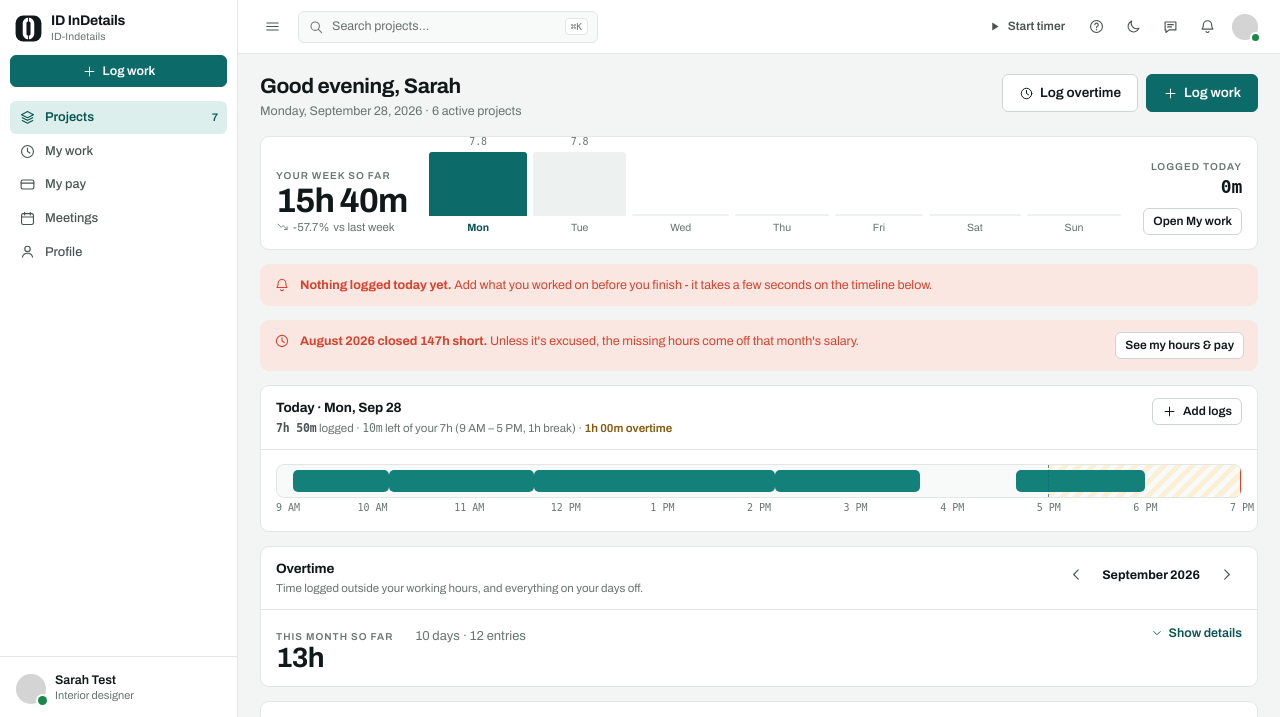
Test: logging work › says what is wrong next to the button, not in a toast
This screenshot has width=1280, height=717.
Click the button "Log work" below "ID-Indetails" at (118, 71), box [10,55,227,87]
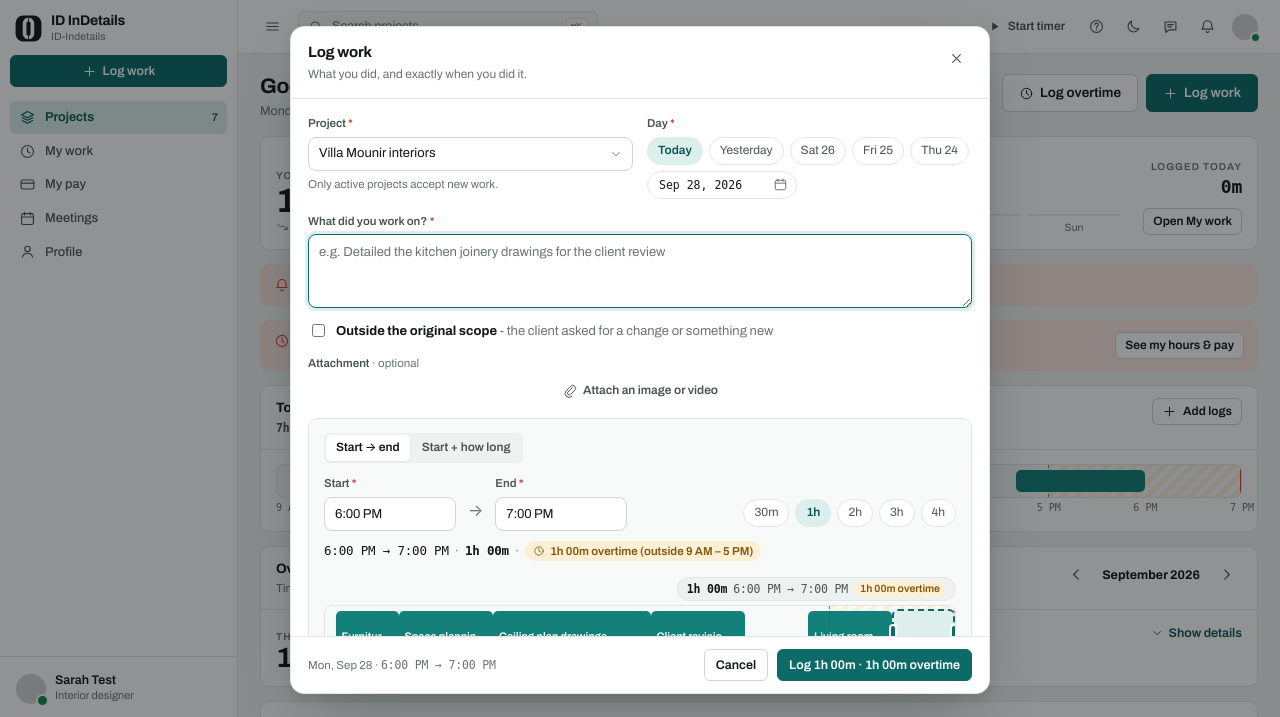
Type "Late drawings" into the text box labelled "What did you work on?" at (640, 272), box [308,234,972,308]
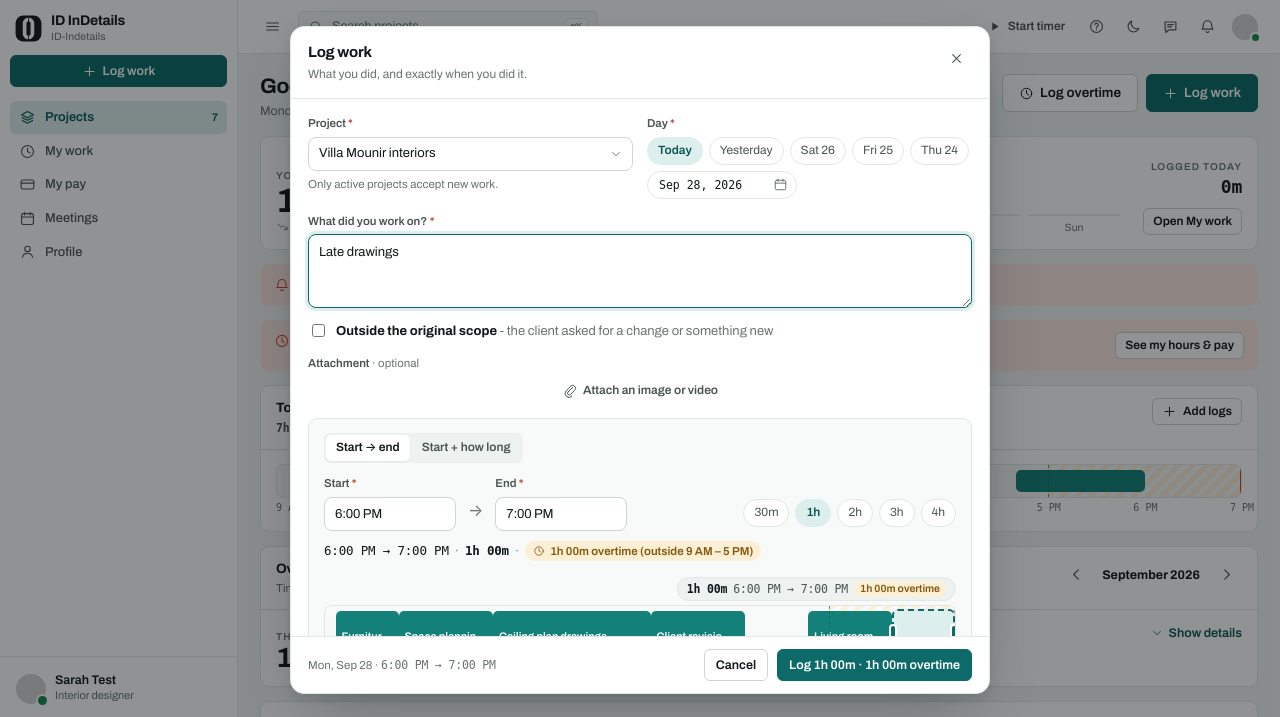
Click the button "Log 1h 00m · 1h 00m overtime" at (875, 665), box [777,649,972,681]
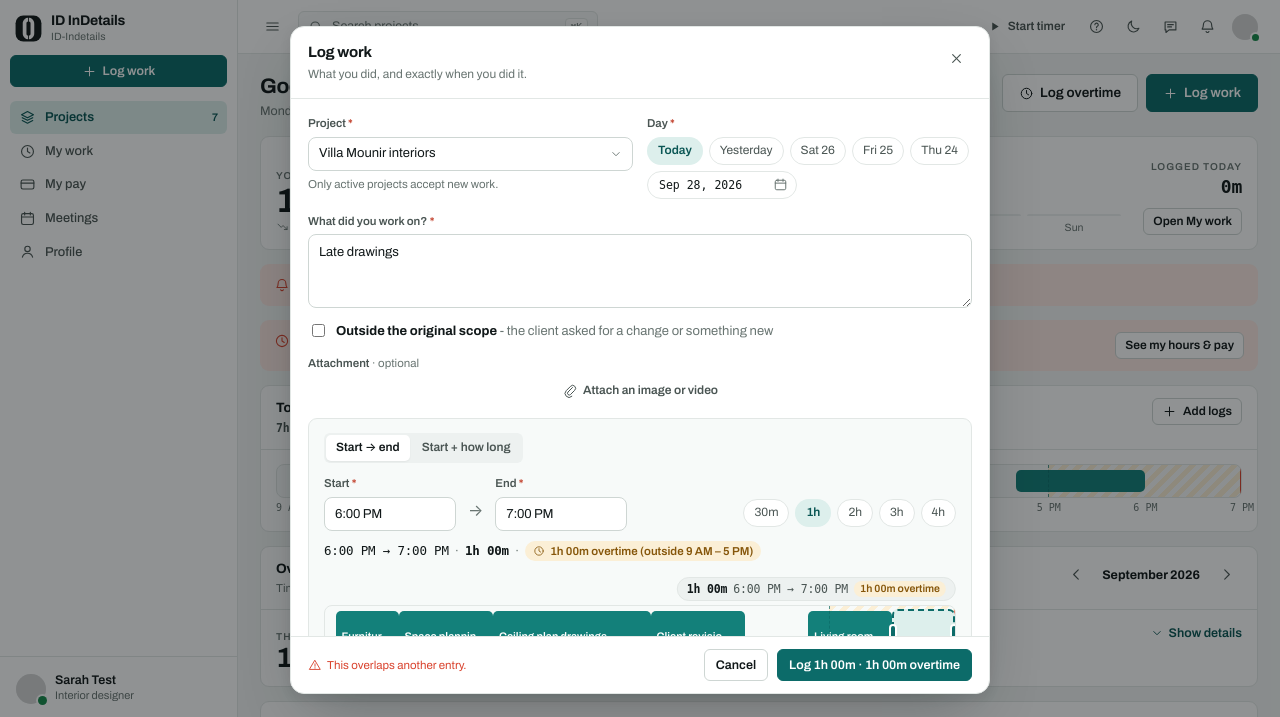
Expected: the text "This overlaps another entry." is shown, [308,658,466,672]
